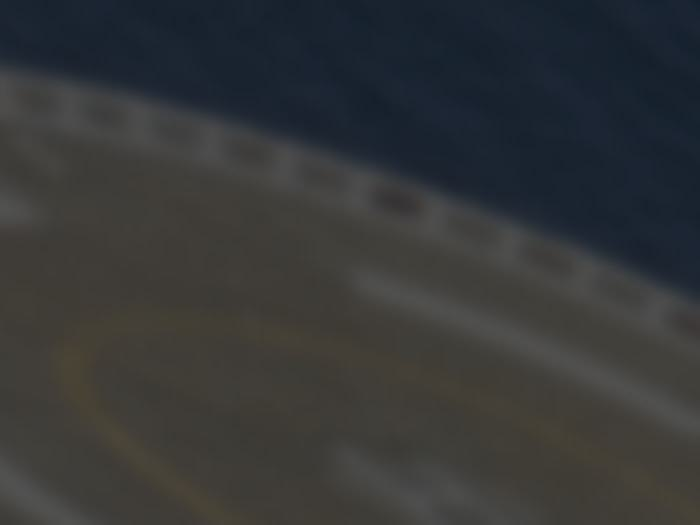Apron: (53, 306, 689, 525)
